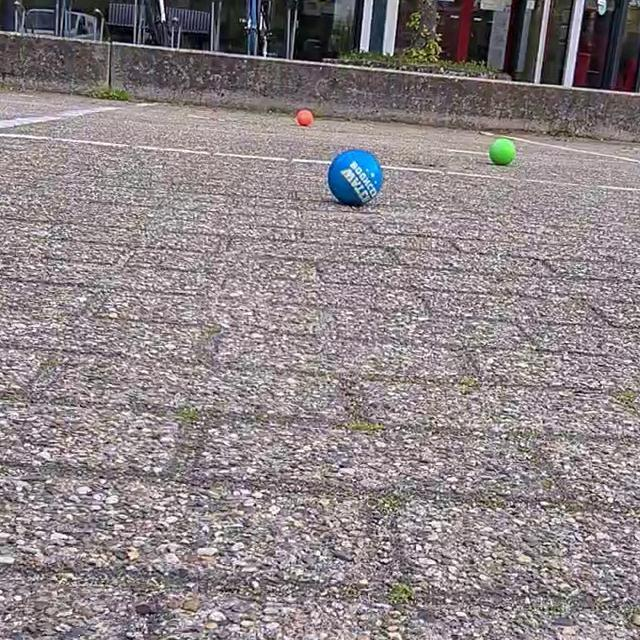ball: (488, 137, 518, 167), (294, 107, 316, 130)
